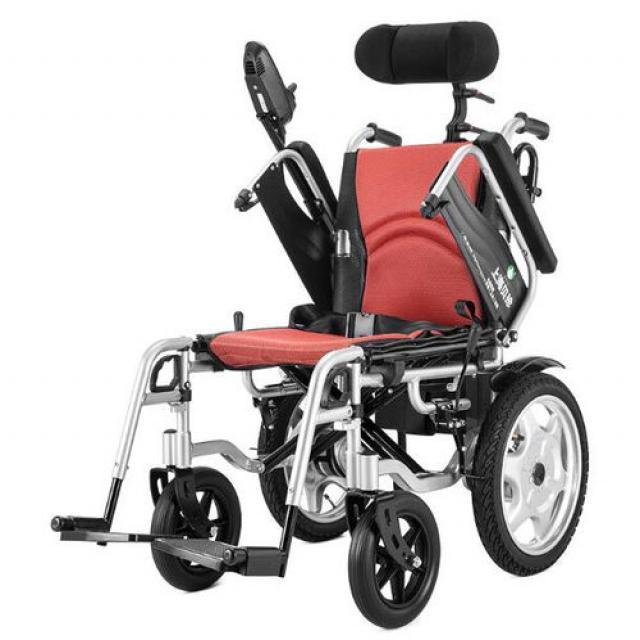wheelchair: (45, 14, 598, 632)
